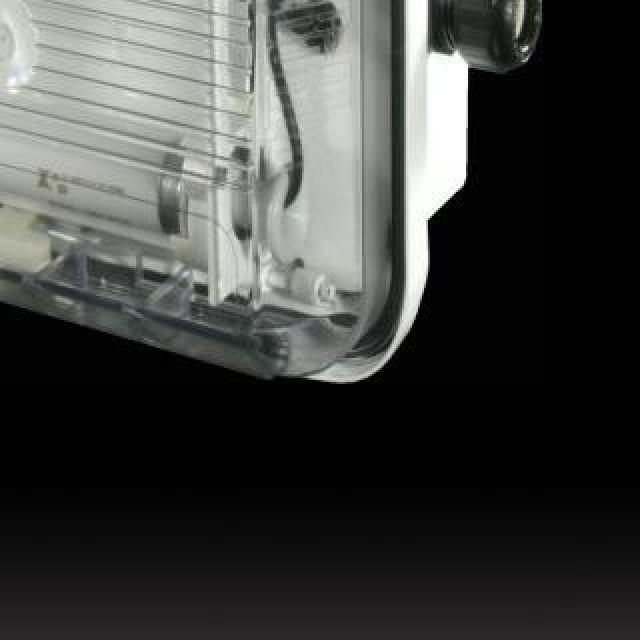fluorescent tube: (0, 0, 256, 296)
